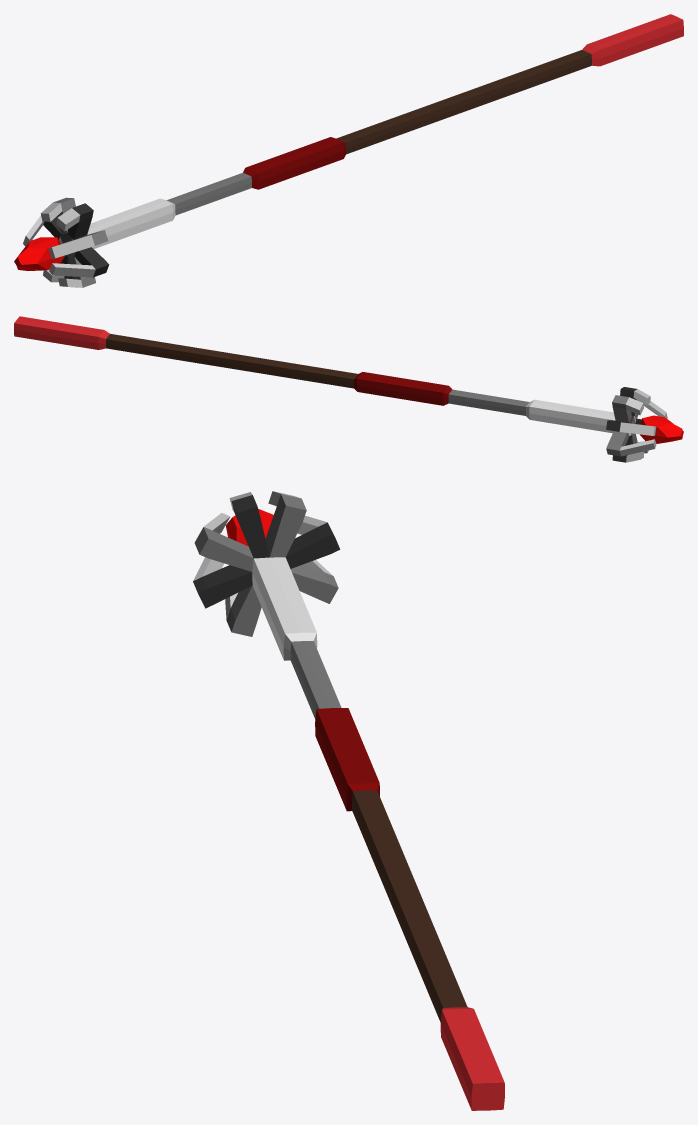
The model's file is Cetro_Bento.gltf.
3 renders of one model, top to bottom at view 1: azimuth 30°, elevation 25°; view 2: azimuth 150°, elevation 25°; view 3: azimuth 270°, elevation 25°, orthographic. The views are drawn at different scales.
Visible parts, largest first — view 1: Cetro_Bento; view 2: Cetro_Bento; view 3: Cetro_Bento.
Boxes of the visible parts, <box> form: Cetro_Bento: <box>14,14,683,287</box>; Cetro_Bento: <box>14,316,683,462</box>; Cetro_Bento: <box>193,491,504,1110</box>.
Size of the model in its own units: 1.35 by 0.139 by 0.3009.
Materials: 1 (1 with a texture image).
